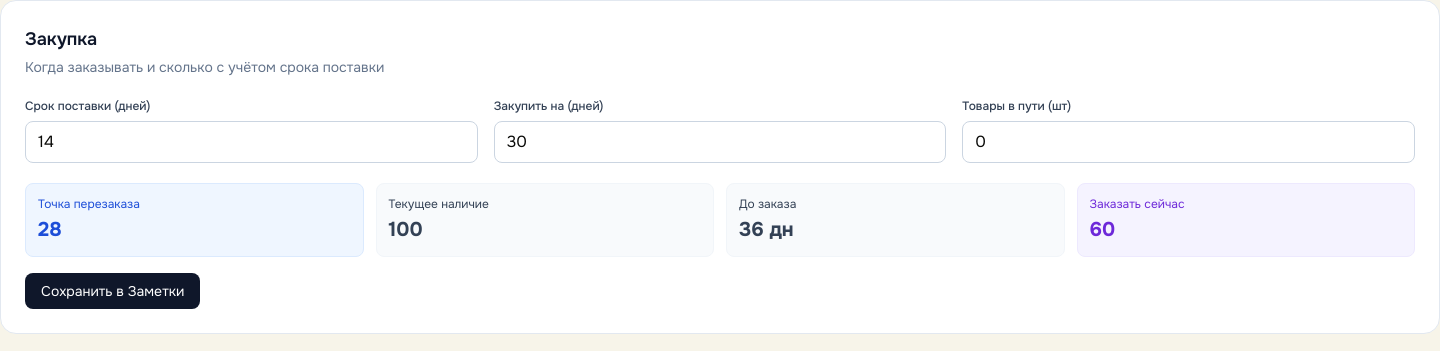
Scenario: ReorderPanel — «Сохранить в Заметки» › после сохранения показывается «сохранено в заметки»
Step 1. Click the button "Сохранить в Заметки" → (113, 291), box [25,273,200,309]
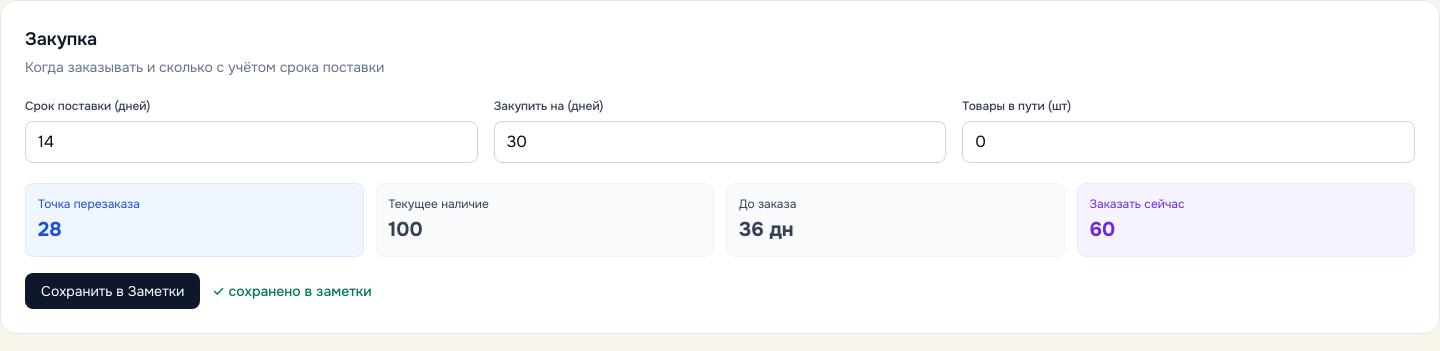
Result: the text "✓ сохранено в заметки" is shown at [212,281,372,301]
